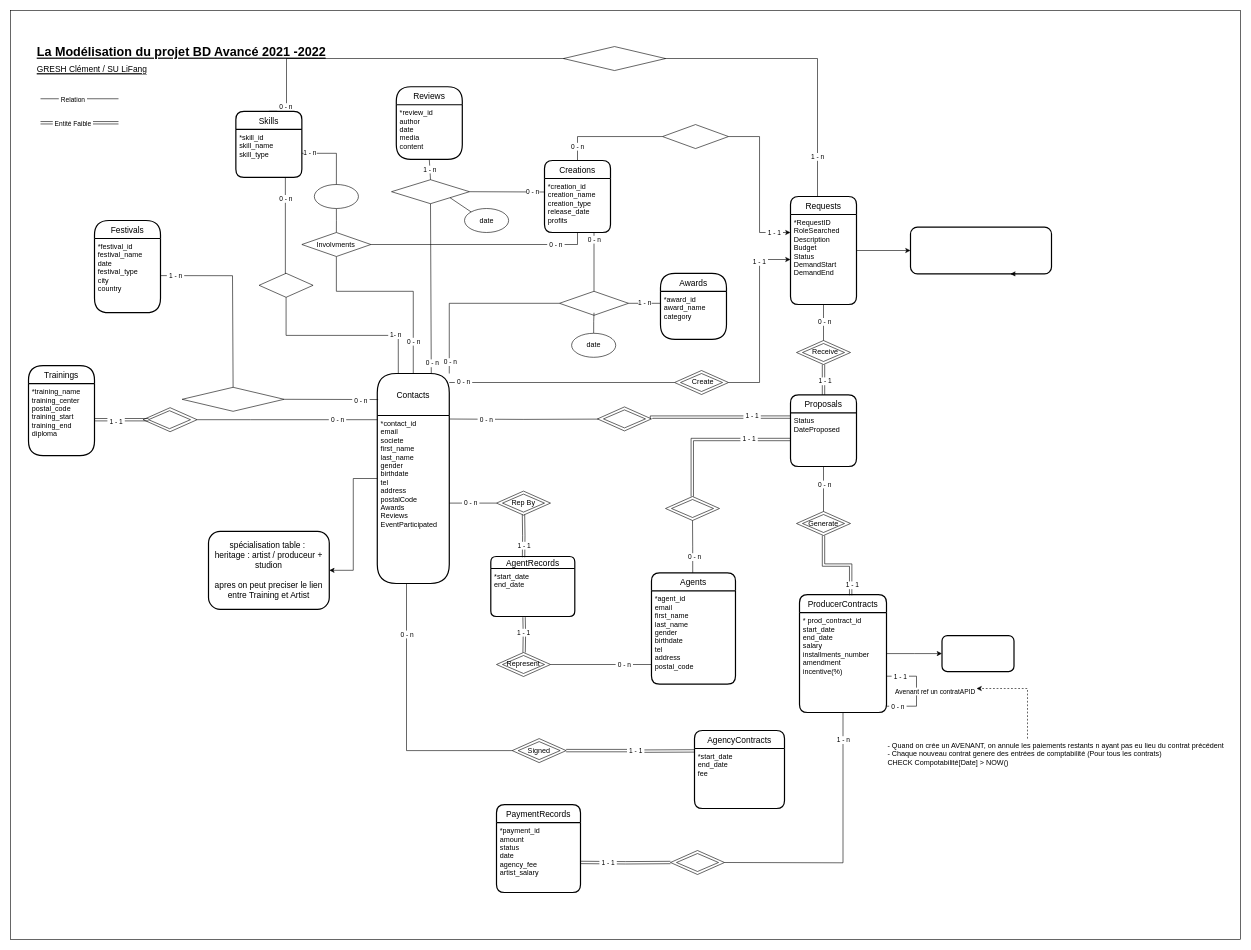
The diagram is 1251 pixels wide and 950 high, and some of its shapes have lost their labels. The centre of each missing label's shape, as x and y in pixels:
"AwardRecords" belongs at (x=593, y=303).
"change : entité fort" belongs at (x=981, y=250).
"description" belongs at (x=336, y=196).
"FestivalRecords" belongs at (x=233, y=399).
"KnownSkills" belongs at (x=285, y=285).
"paid" belongs at (x=697, y=862).
"part of" belongs at (x=695, y=136).
"PAS ENTITE FAIBLE : del contratID" belongs at (x=977, y=653).
"Propose" belongs at (x=624, y=418).
"RequiredSkills" belongs at (x=614, y=58).
"ReviewRecords" belongs at (x=430, y=191).
"Submit" belongs at (x=692, y=508).
